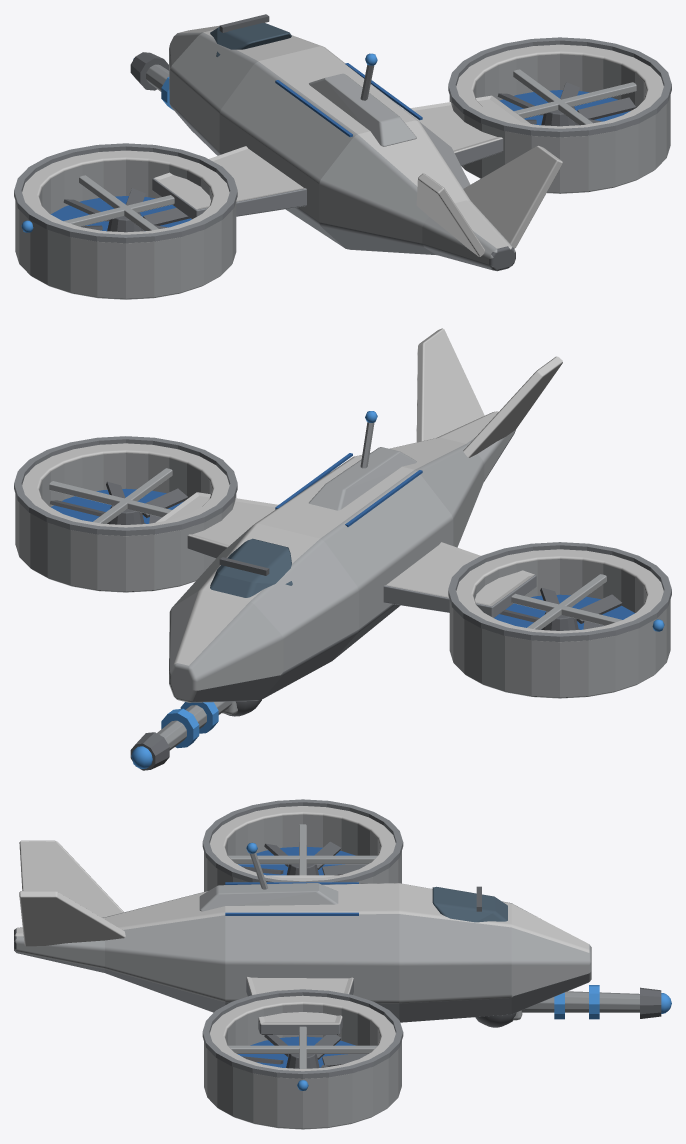
Rendered from lattice_gunship.glb.
The picture shows the model from 3 angles, top to bottom: view 1: azimuth 30°, elevation 25°; view 2: azimuth 150°, elevation 25°; view 3: azimuth 270°, elevation 25°; orthographic projection. The views are drawn at different scales.
Visible parts, largest first — view 1: Body; view 2: Body; view 3: Body.
Part boxes in pixels (box(x1,y1,x2,y2)): Body: box(14, 14, 671, 299); Body: box(14, 328, 671, 770); Body: box(14, 799, 671, 1129).
Bounding box in the file's own units: 2.48 × 0.752 × 2.46.
